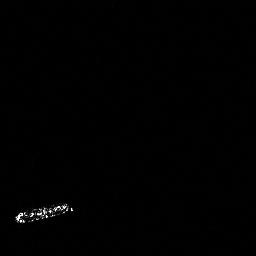ship: (14, 202, 74, 224)
